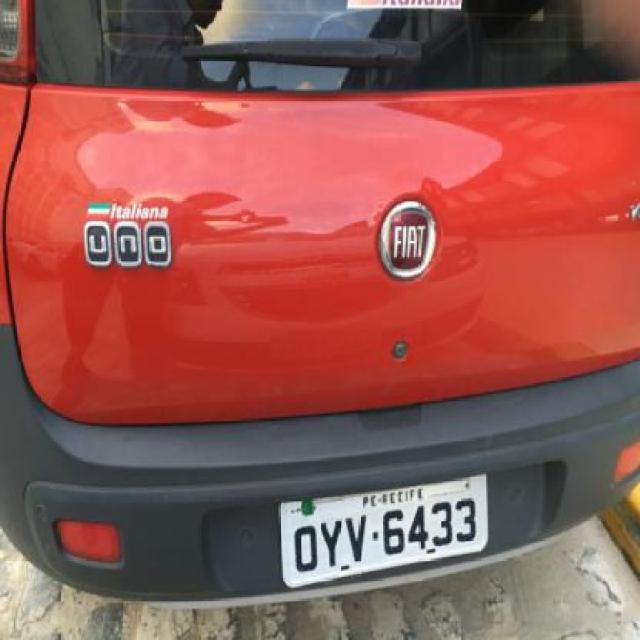old_plate: (273, 468, 494, 593)
